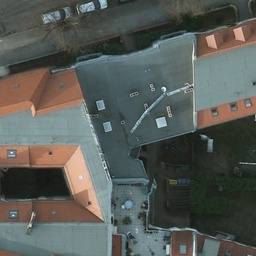car: (74, 0, 108, 15), (43, 6, 72, 22), (115, 0, 146, 1)
